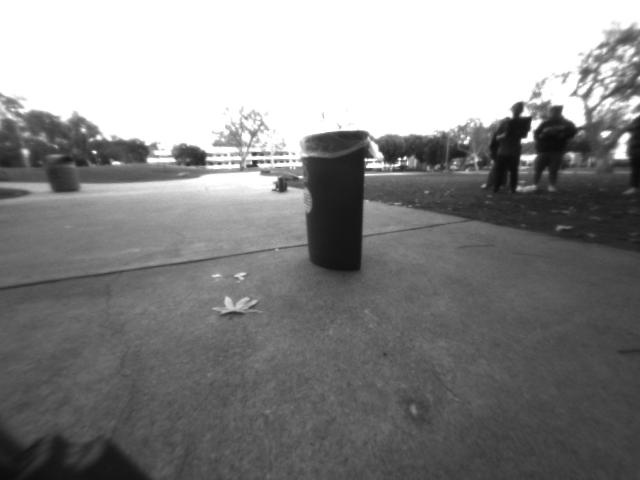trashcan_open: (295, 128, 370, 274)
